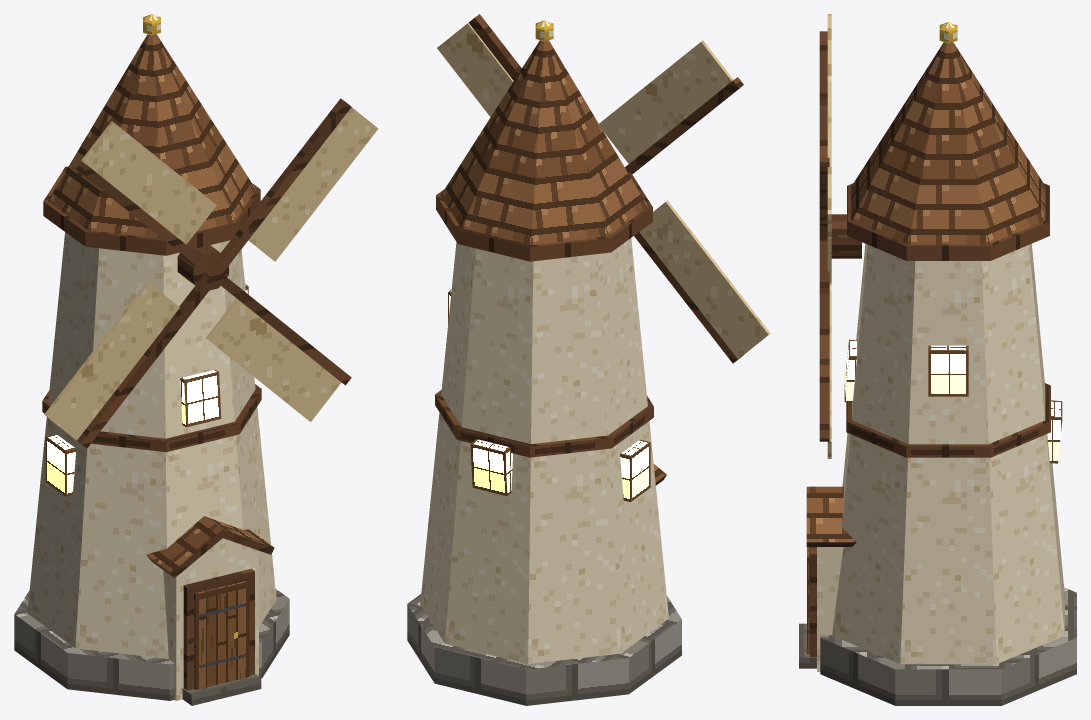
File: windmill.glb
3 views of the same model, side by side, from view 1: azimuth 30°, elevation 25°; view 2: azimuth 150°, elevation 25°; view 3: azimuth 270°, elevation 25° (orthographic).
Visible parts, largest first — view 1: windmill, windmill_blades; view 2: windmill, windmill_blades; view 3: windmill, windmill_blades.
Part boxes in pixels (x1=…): windmill: x1=14, y1=14, x2=289, y2=705; windmill_blades: x1=44, y1=98, x2=378, y2=448; windmill: x1=407, y1=20, x2=681, y2=705; windmill_blades: x1=437, y1=14, x2=770, y2=363; windmill: x1=799, y1=22, x2=1076, y2=705; windmill_blades: x1=819, y1=14, x2=861, y2=458.
Bounding box in the file's own units: 3.82 × 6.9 × 2.76.
8 materials, 8 textured.
